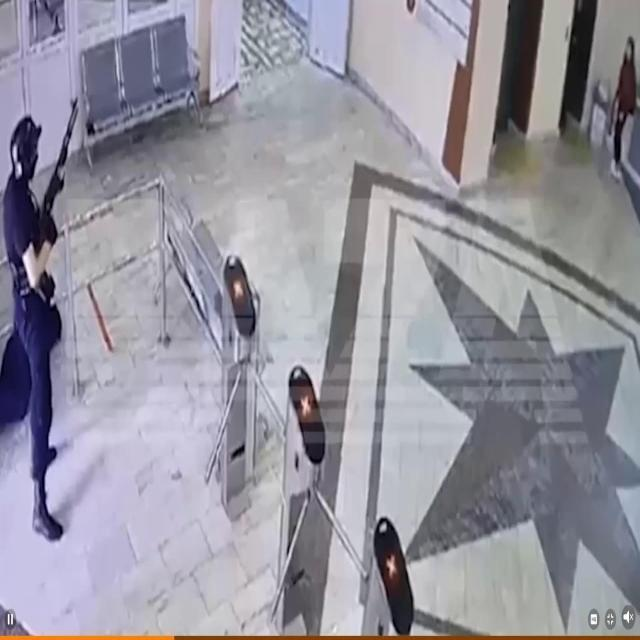pistol: (36, 94, 82, 233)
